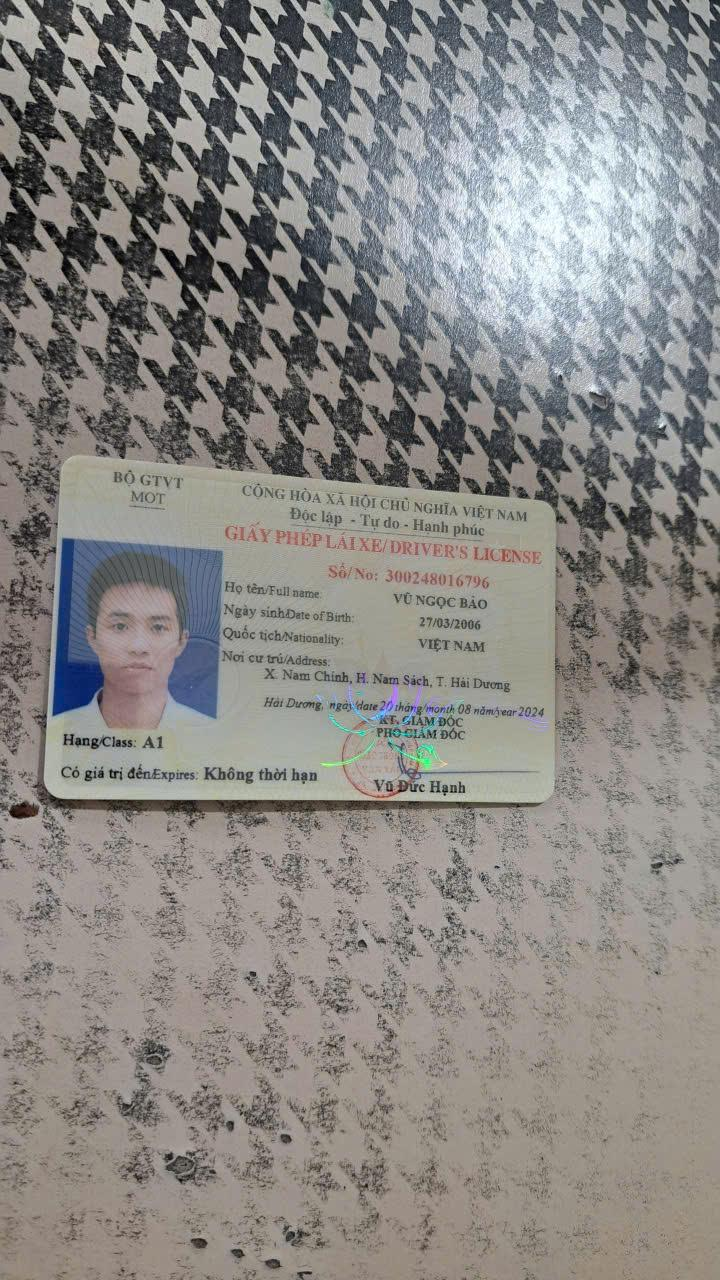gplx: (34, 449, 564, 812)
